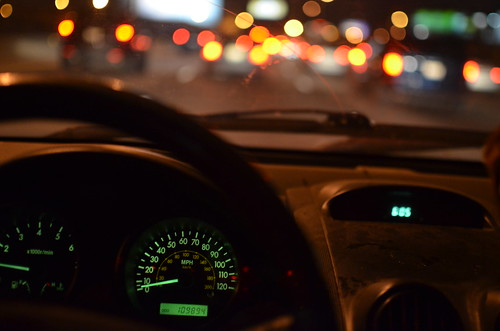car: (1, 79, 500, 331)
